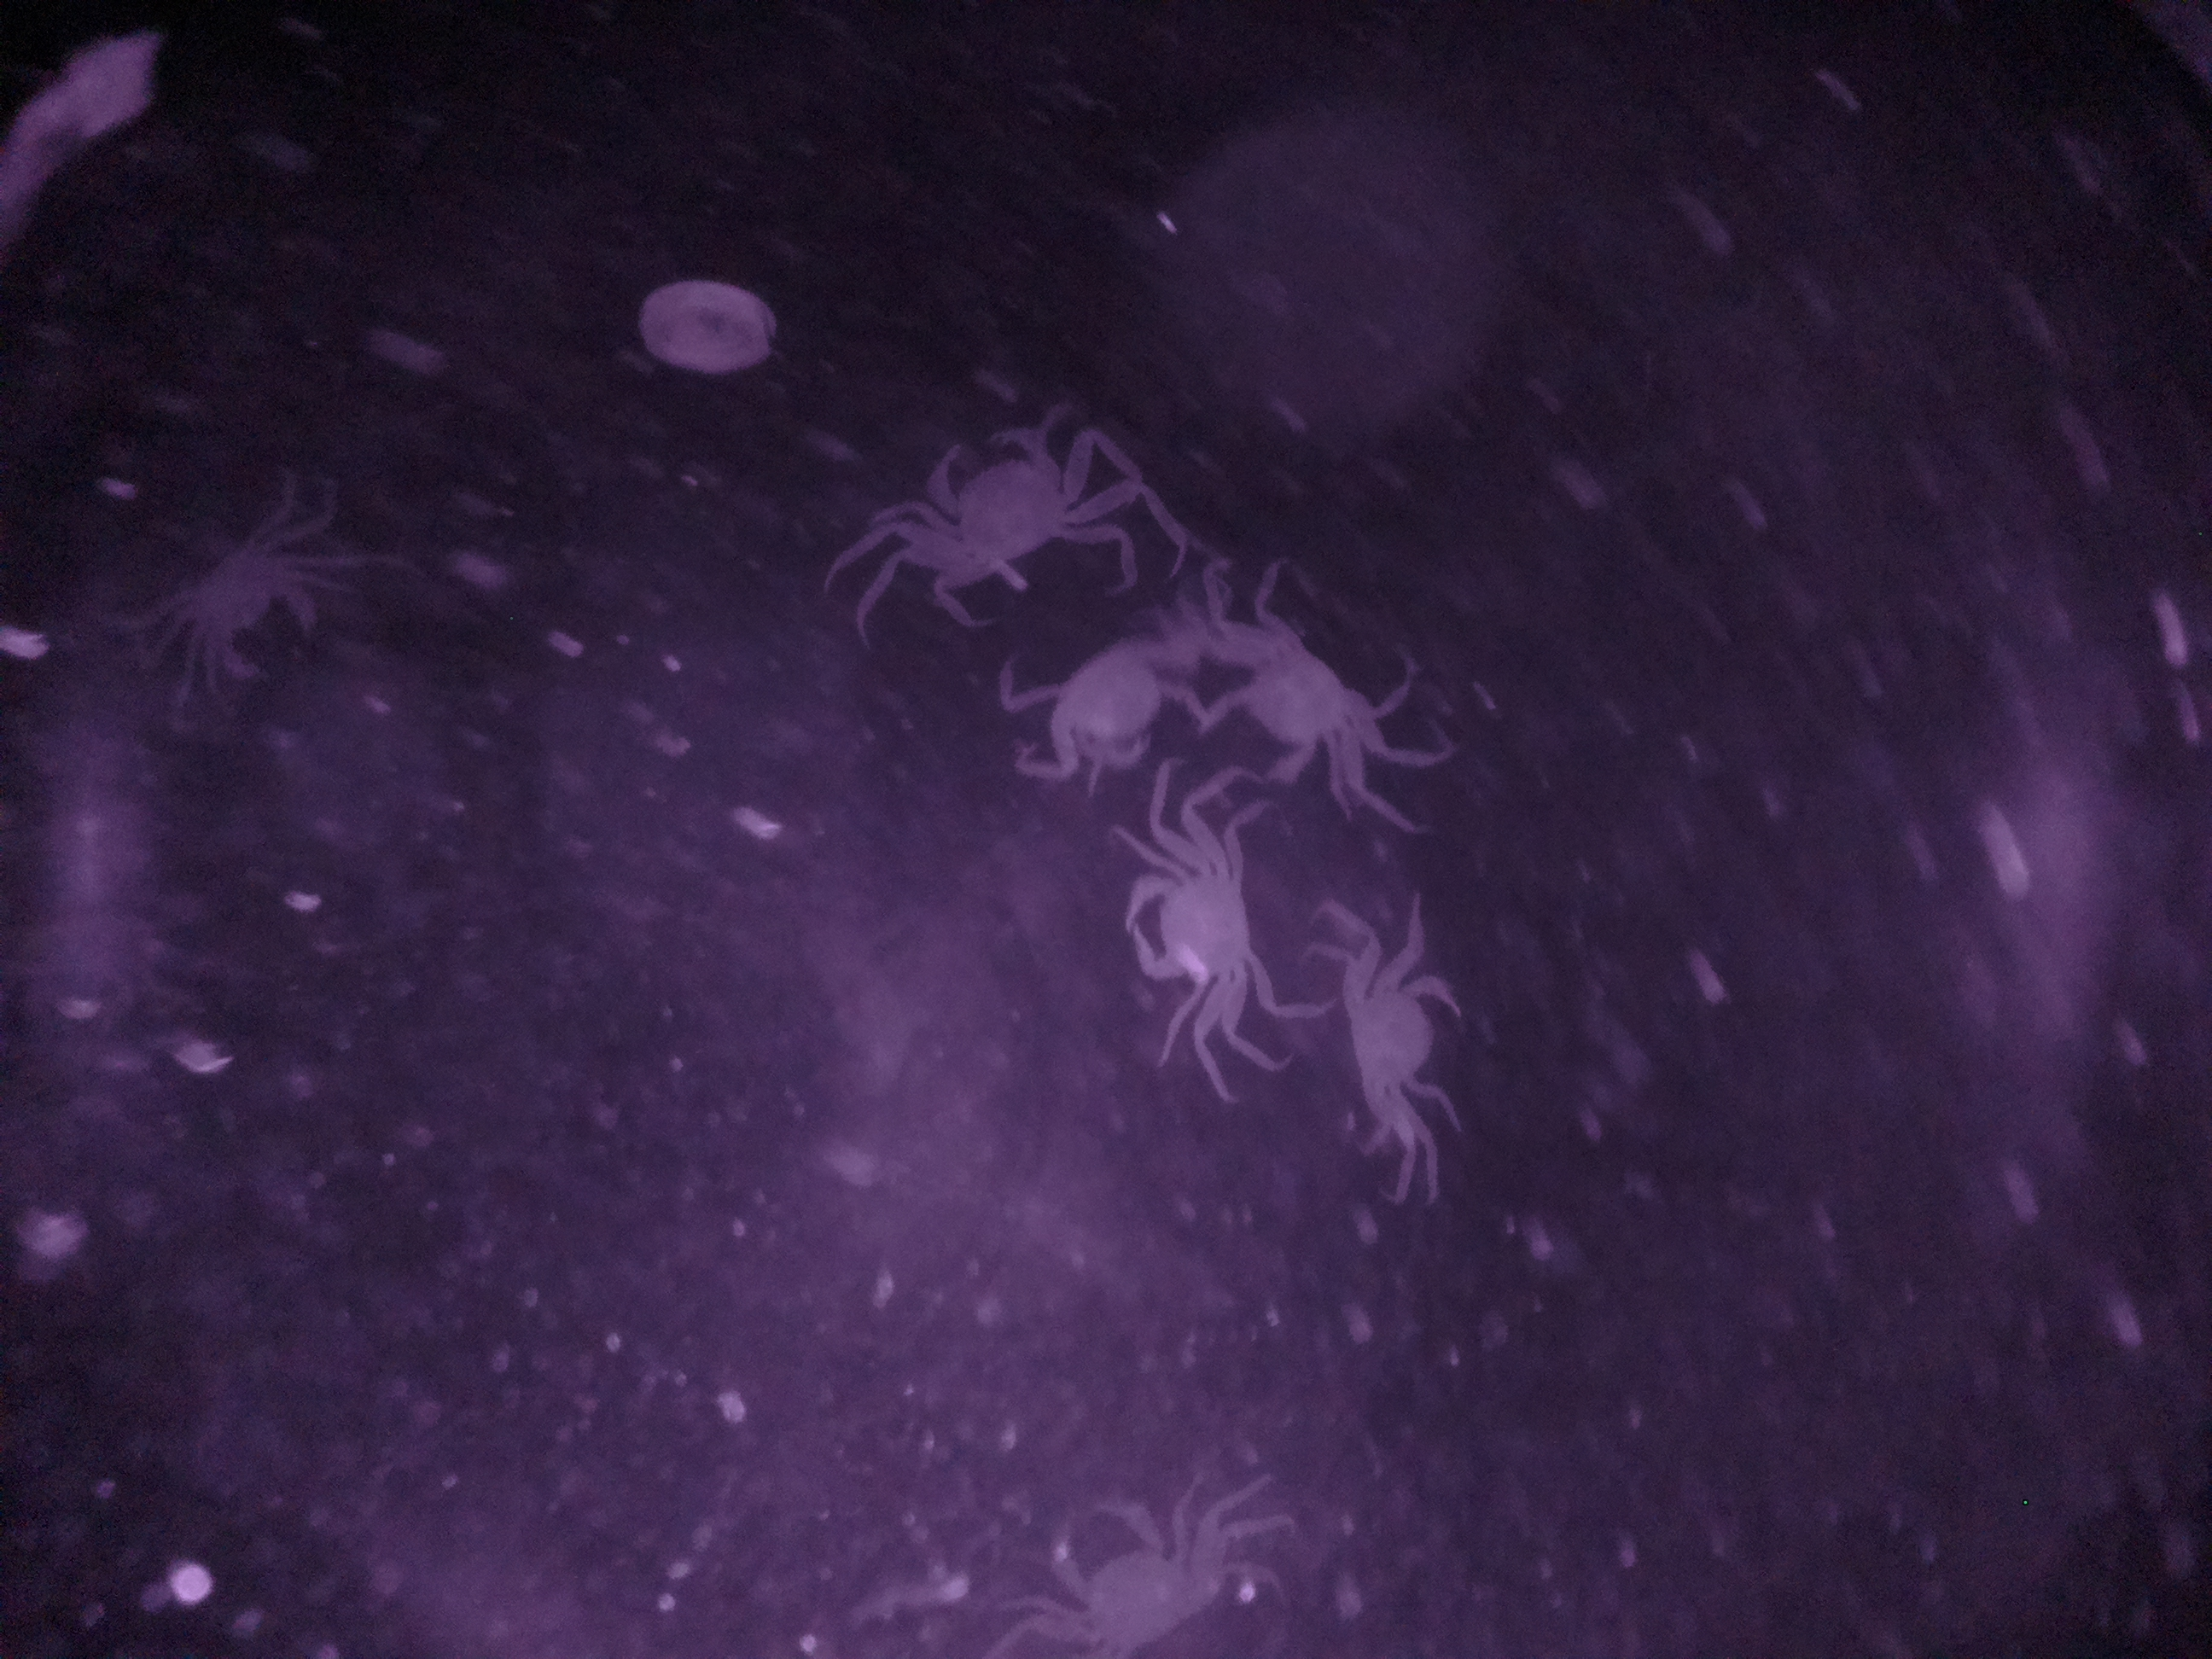Crab: (900, 415, 1125, 606), (1109, 842, 1278, 1049), (169, 528, 347, 704), (1315, 936, 1468, 1136)
